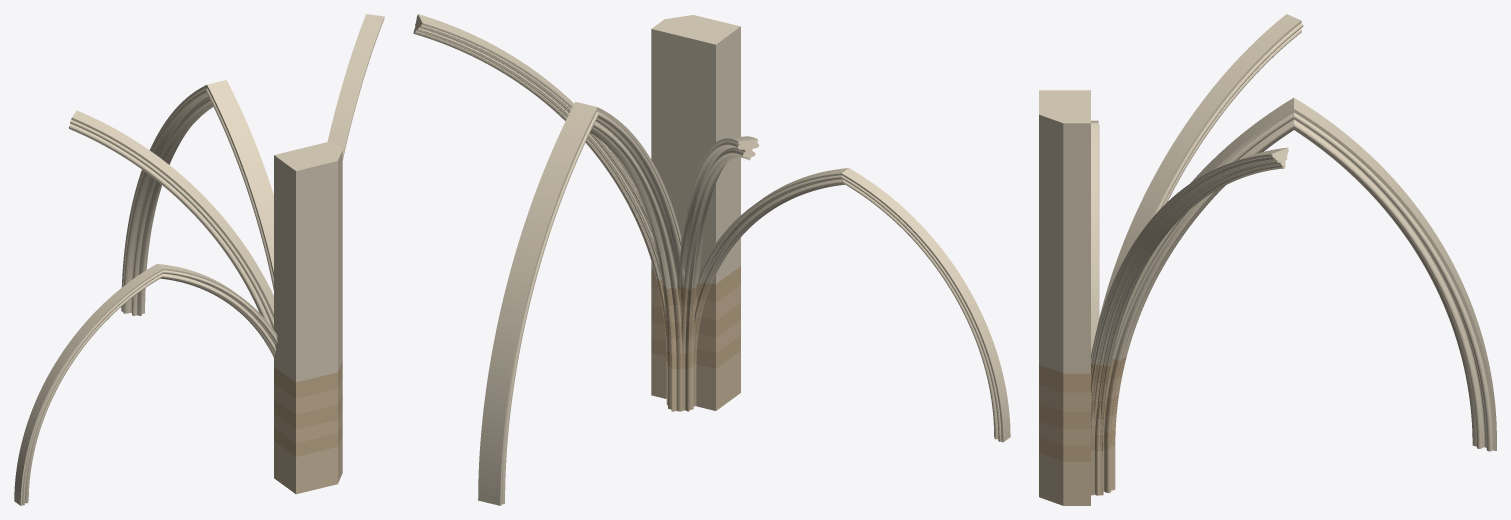
Rendered from springer_variant.glb.
3 views of the same model, side by side, from view 1: azimuth 30°, elevation 25°; view 2: azimuth 150°, elevation 25°; view 3: azimuth 270°, elevation 25° (orthographic). The views are drawn at different scales.
Parts seen in each view (by area): view 1: receiver, member_0, member_3, member_1, member_2, derived_respond, course_05, course_04, course_03, course_02, course_01; view 2: member_0, receiver, member_3, member_2, member_1, derived_respond, course_04, course_05, course_03, course_01, course_02; view 3: member_0, receiver, member_1, member_2, derived_respond, member_3, course_05, course_04, course_03, course_02, course_01.
Part boxes in pixels (x1,y1,x2,y2): receiver: (274,141,342,382); member_0: (121,80,273,315); member_3: (14,264,277,505); member_1: (68,110,273,329); member_2: (327,14,384,159); derived_respond: (274,436,342,494); course_05: (274,362,342,398); course_04: (274,378,342,414); course_03: (274,394,342,429); course_02: (274,409,342,443); course_01: (274,423,342,456); member_0: (478,102,684,505); receiver: (651,15,740,284); member_3: (698,168,1010,442); member_2: (413,14,661,279); member_1: (677,136,758,289); derived_respond: (651,351,740,411); course_04: (651,284,740,322); course_05: (651,266,740,305); course_03: (651,303,740,338); course_01: (651,335,740,369); course_02: (651,320,740,353); member_0: (1111,98,1496,451); receiver: (1039,90,1090,373); member_1: (1095,14,1303,333); member_2: (1091,147,1288,366); derived_respond: (1039,445,1115,505); member_3: (1091,120,1099,349); course_05: (1039,349,1126,392); course_04: (1039,376,1121,411); course_03: (1039,395,1118,429); course_02: (1039,413,1116,445); course_01: (1039,429,1115,461).
Bounding box in the file's own units: 3736 × 2900 × 2820.
